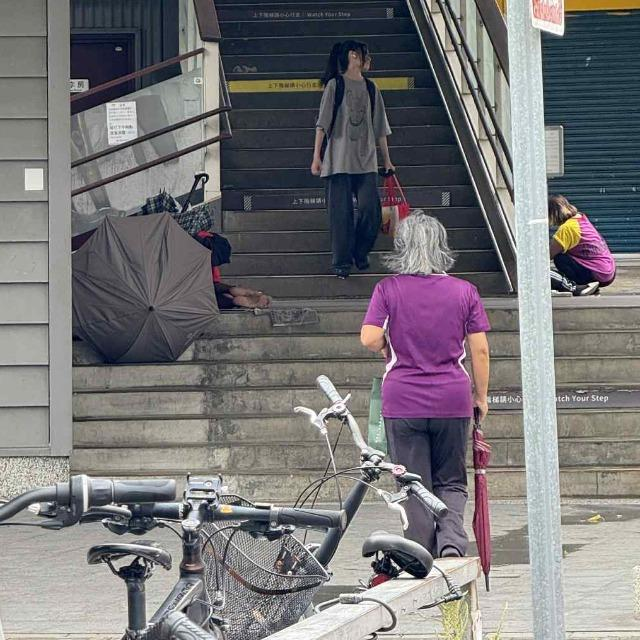NoHelmet: (390, 206, 458, 273)
NoVest: (370, 272, 486, 419), (317, 75, 392, 179)
